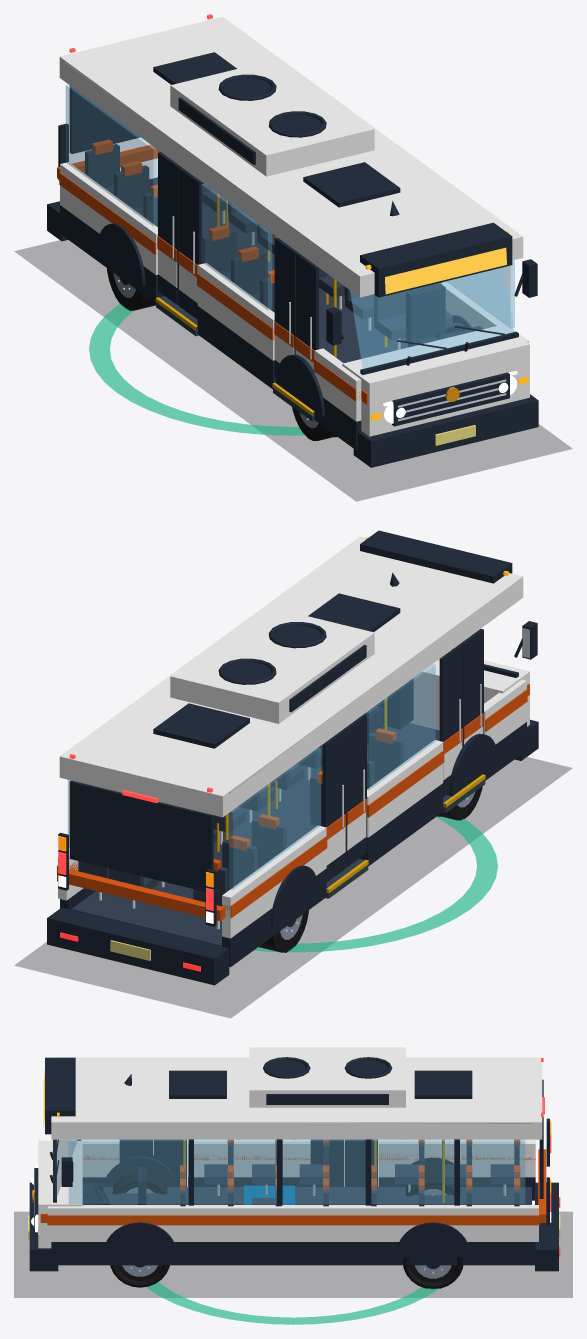
Rendered from shuttle-bus.glb.
The picture shows the model from 3 angles, top to bottom: view 1: azimuth 30°, elevation 25°; view 2: azimuth 150°, elevation 25°; view 3: azimuth 270°, elevation 25°; orthographic projection. The views are drawn at different scales.
Visible parts, largest first — view 1: Body, Roof, GroundShadow, Interior, StatusRing, RearDoorLeftLeaf, RearDoorRightLeaf, FrontDoorRightLeaf, FrontDoorLeftLeaf, Doors, Lights, RearLeftWheel (+1 smaller); view 2: Roof, Body, GroundShadow, Interior, StatusRing, RearDoorRightLeaf, RearDoorLeftLeaf, FrontDoorRightLeaf, FrontDoorLeftLeaf, Lights, Doors, RearLeftWheel; view 3: Body, Roof, GroundShadow, Interior, StatusRing, RearRightWheel, RearDoorRightLeaf, RearDoorLeftLeaf, FrontRightWheel, FrontDoorRightLeaf, FrontLeftWheel, Lights (+2 smaller).
Boxes of the visible parts, bbox=[...] form: Body: bbox=[47, 84, 538, 467]; Roof: bbox=[59, 16, 523, 297]; GroundShadow: bbox=[15, 240, 571, 501]; Interior: bbox=[85, 139, 483, 362]; StatusRing: bbox=[89, 304, 304, 435]; RearDoorLeftLeaf: bbox=[178, 167, 202, 319]; RearDoorRightLeaf: bbox=[157, 152, 180, 305]; FrontDoorRightLeaf: bbox=[274, 237, 298, 377]; FrontDoorLeftLeaf: bbox=[295, 253, 318, 370]; Doors: bbox=[155, 296, 315, 421]; Lights: bbox=[58, 14, 528, 423]; RearLeftWheel: bbox=[107, 268, 155, 310]; Roof: bbox=[59, 530, 523, 817]; Body: bbox=[47, 621, 538, 985]; GroundShadow: bbox=[15, 757, 571, 1017]; Interior: bbox=[71, 678, 439, 946]; StatusRing: bbox=[254, 816, 497, 952]; RearDoorRightLeaf: bbox=[322, 729, 346, 881]; RearDoorLeftLeaf: bbox=[343, 714, 366, 867]; FrontDoorRightLeaf: bbox=[439, 644, 462, 796]; FrontDoorLeftLeaf: bbox=[460, 629, 483, 744]; Lights: bbox=[58, 537, 508, 926]; Doors: bbox=[326, 774, 485, 898]; RearLeftWheel: bbox=[259, 910, 308, 952]; Body: bbox=[28, 1079, 560, 1271]; Roof: bbox=[43, 1047, 542, 1139]; GroundShadow: bbox=[14, 1212, 572, 1297]; Interior: bbox=[82, 1139, 531, 1206]; StatusRing: bbox=[146, 1282, 438, 1324]; RearRightWheel: bbox=[403, 1257, 463, 1288]; RearDoorRightLeaf: bbox=[344, 1139, 377, 1186]; RearDoorLeftLeaf: bbox=[310, 1139, 343, 1186]; FrontRightWheel: bbox=[110, 1265, 169, 1287]; FrontDoorRightLeaf: bbox=[153, 1139, 186, 1186]; FrontLeftWheel: bbox=[112, 1171, 167, 1194]; Lights: bbox=[31, 1058, 551, 1234].
Size of the model in its own units: 4.9 by 3.07 by 8.2.
